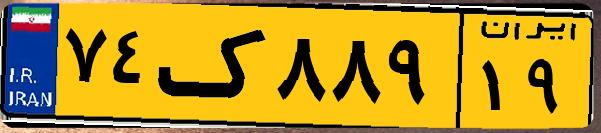1: (475, 38, 525, 113)
4: (110, 28, 158, 98)
7: (57, 26, 110, 100)
8: (270, 28, 330, 110), (330, 28, 385, 110)
9: (385, 28, 445, 110), (525, 38, 570, 115)
ک: (158, 12, 270, 120)
